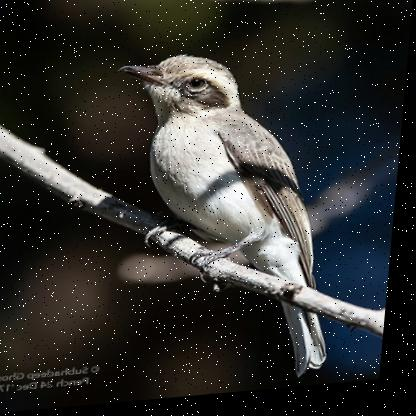Burung: (98, 45, 357, 398)
